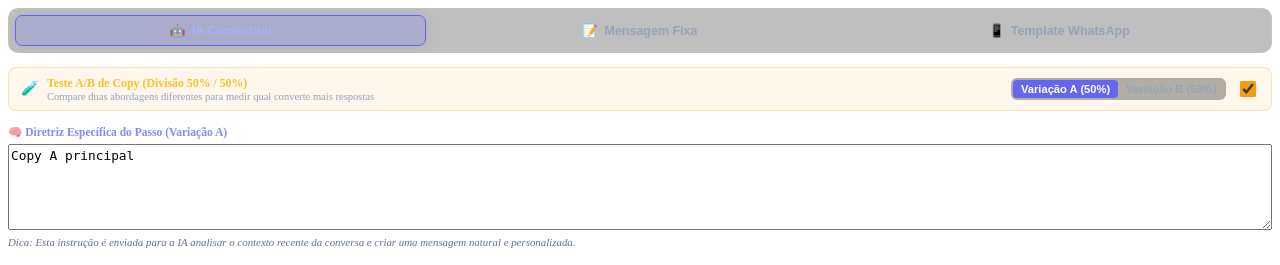
Test case: Followup Upgrades - Novos Componentes e Funcionalidades › FollowupStepMessageFormat (Teste A/B de Copy) › deve exibir abas de Variação A e B quando ab_test_enabled for true e permitir alternar
Check: the button with test id "followup-ab-tab-a" is shown, box [1013,80,1118,98]
Click the button with test id "followup-ab-tab-b": (1171, 89) [1118,80,1224,98]
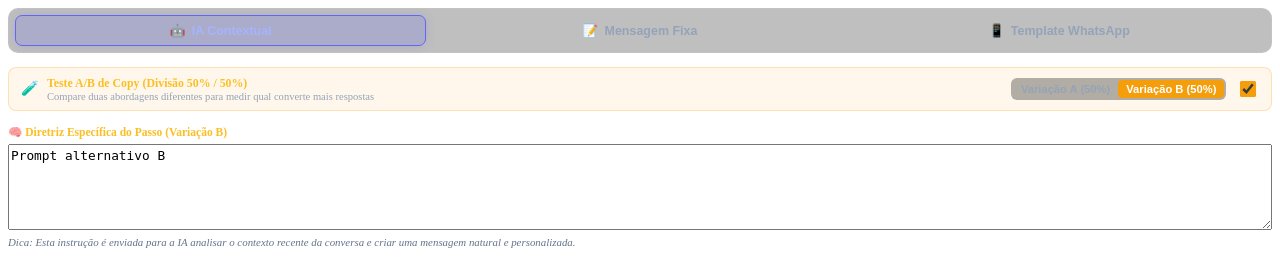
Check: the text box with placeholder "Variação B:" is shown, box [8,144,1272,230]
